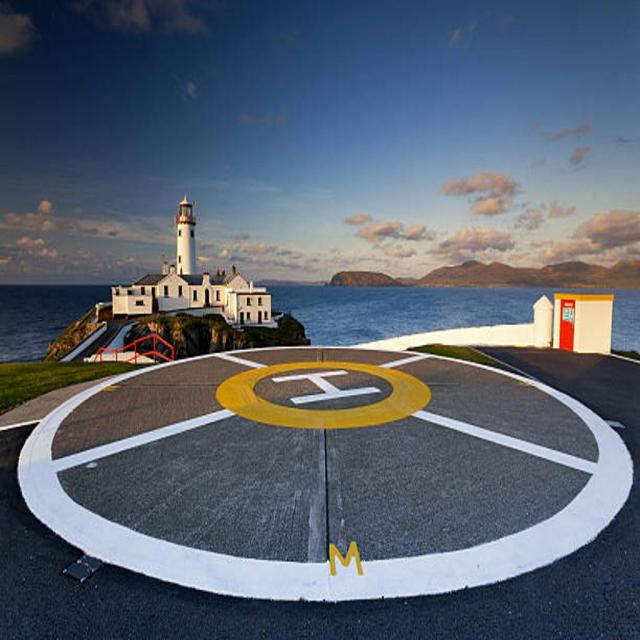helipad: (214, 359, 431, 428)
